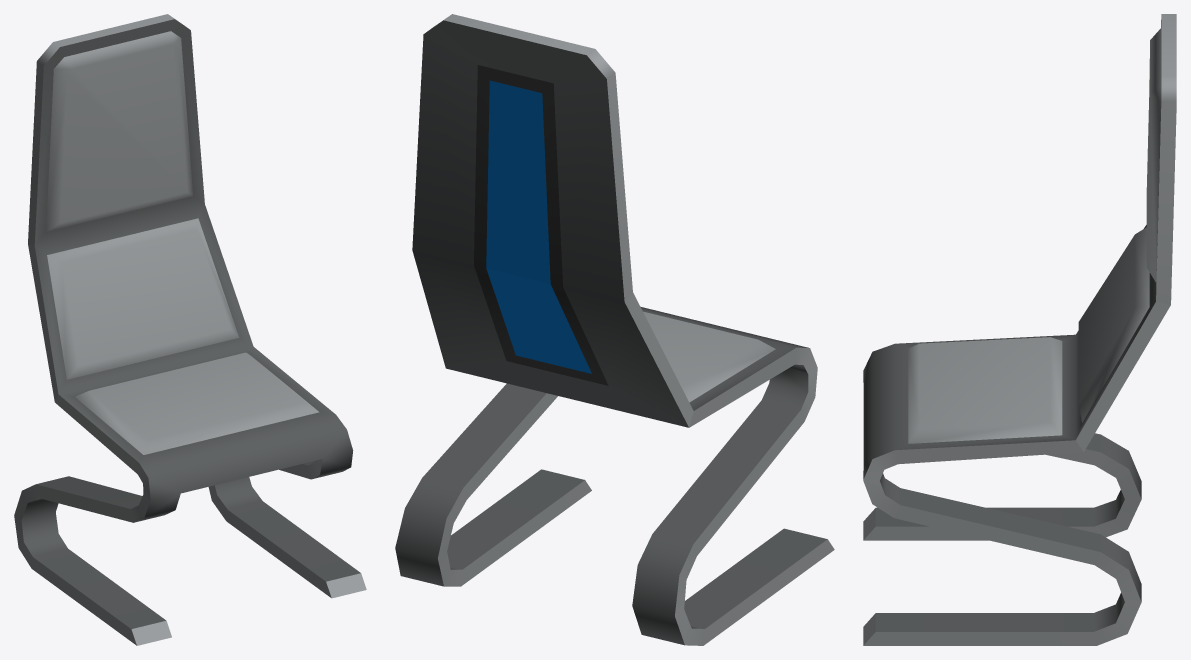
File: Chair_015.fbx
The picture shows the model from 3 angles, left to right: view 1: azimuth 30°, elevation 25°; view 2: azimuth 150°, elevation 25°; view 3: azimuth 270°, elevation 25°; orthographic projection. The views are drawn at different scales.
Parts seen in each view (by area): view 1: Chair_015; view 2: Chair_015; view 3: Chair_015.
Boxes of the visible parts, box(x1,y1,x2,y2) form: Chair_015: box(14, 14, 366, 645); Chair_015: box(395, 14, 834, 645); Chair_015: box(863, 14, 1176, 645).
Size of the model in its own units: 65.17 by 69.55 by 132.
